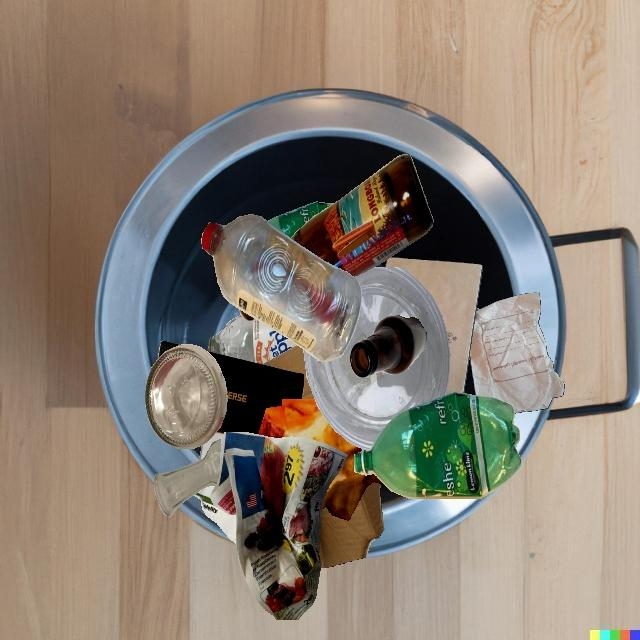biowaste: (259, 399, 385, 521)
cardboard: (319, 482, 384, 568), (207, 351, 304, 406), (148, 350, 227, 416), (261, 345, 315, 399)
glass: (291, 154, 433, 276), (145, 345, 227, 448), (154, 439, 222, 517), (350, 315, 427, 378), (207, 314, 297, 364)
paper: (210, 432, 348, 620), (194, 461, 321, 568), (385, 257, 482, 395), (469, 292, 565, 413), (469, 310, 479, 354), (476, 308, 479, 312)
plastic: (303, 267, 450, 450), (201, 214, 362, 362), (354, 392, 521, 498), (267, 201, 333, 238)
